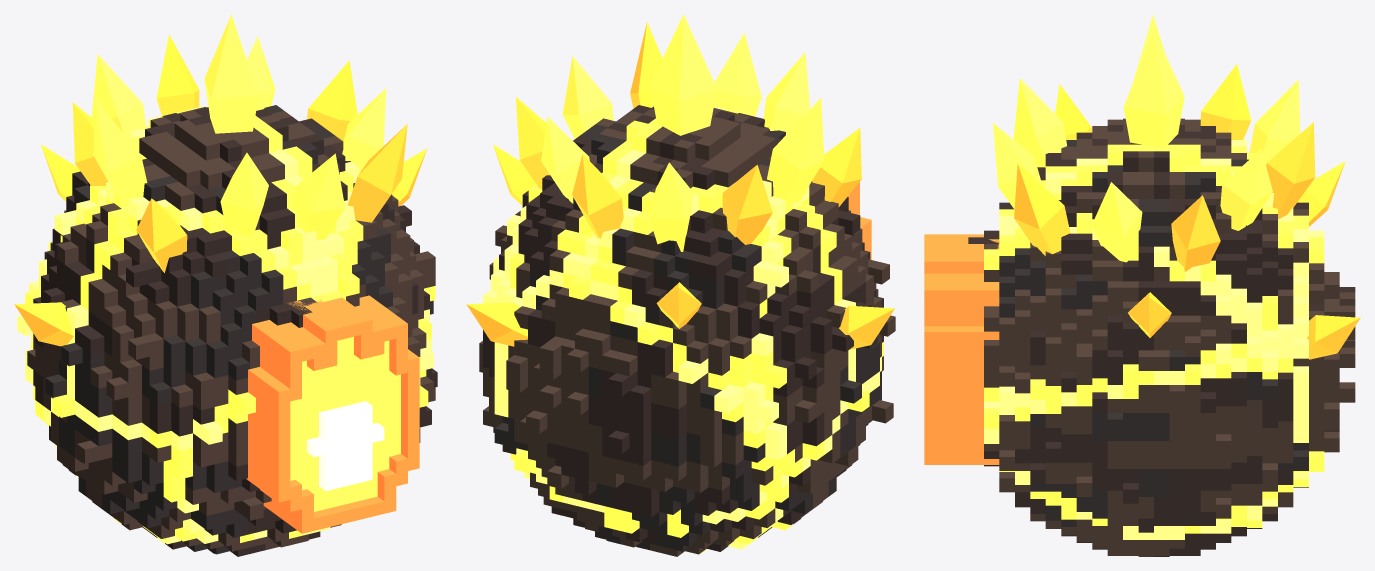
Rendered from MagmawBossEgg.fbx.
3 renders of one model, left to right at view 1: azimuth 30°, elevation 25°; view 2: azimuth 150°, elevation 25°; view 3: azimuth 270°, elevation 25°, orthographic. The views are drawn at different scales.
Visible parts, largest first — view 1: Magmaw_Body__Magmaw_Rock, Magmaw_Body__Magmaw_Charcoal, Magmaw_Emblem__Magmaw_FlameOutline, Magmaw_Body__Magmaw_RockDark, Magmaw_Crystals__Magmaw_CrystalYellow, Magmaw_Crystals__Magmaw_CrystalOrange, Magmaw_Body__Magmaw_Magma, Magmaw_Body__Magmaw_MagmaHot, Magmaw_Emblem__Magmaw_Flame, Magmaw_Emblem__Magmaw_FlameCore; view 2: Magmaw_Body__Magmaw_Rock, Magmaw_Body__Magmaw_RockDark, Magmaw_Crystals__Magmaw_CrystalYellow, Magmaw_Body__Magmaw_Charcoal, Magmaw_Body__Magmaw_Magma, Magmaw_Crystals__Magmaw_CrystalOrange, Magmaw_Body__Magmaw_MagmaHot, Magmaw_Emblem__Magmaw_FlameOutline; view 3: Magmaw_Body__Magmaw_Rock, Magmaw_Body__Magmaw_RockDark, Magmaw_Crystals__Magmaw_CrystalYellow, Magmaw_Crystals__Magmaw_CrystalOrange, Magmaw_Emblem__Magmaw_FlameOutline, Magmaw_Body__Magmaw_MagmaHot, Magmaw_Body__Magmaw_Magma, Magmaw_Body__Magmaw_Charcoal.
Part boxes in pixels (x1=…): Magmaw_Body__Magmaw_Rock: x1=27, y1=107, x2=435, y2=551; Magmaw_Body__Magmaw_Charcoal: x1=45, y1=105, x2=433, y2=554; Magmaw_Emblem__Magmaw_FlameOutline: x1=246, y1=295, x2=419, y2=533; Magmaw_Body__Magmaw_RockDark: x1=33, y1=107, x2=437, y2=556; Magmaw_Crystals__Magmaw_CrystalYellow: x1=91, y1=14, x2=386, y2=240; Magmaw_Crystals__Magmaw_CrystalOrange: x1=14, y1=34, x2=427, y2=346; Magmaw_Body__Magmaw_Magma: x1=25, y1=103, x2=435, y2=543; Magmaw_Body__Magmaw_MagmaHot: x1=17, y1=106, x2=433, y2=544; Magmaw_Emblem__Magmaw_Flame: x1=290, y1=337, x2=400, y2=511; Magmaw_Emblem__Magmaw_FlameCore: x1=307, y1=401, x2=384, y2=490; Magmaw_Body__Magmaw_Rock: x1=479, y1=108, x2=895, y2=556; Magmaw_Body__Magmaw_RockDark: x1=483, y1=105, x2=883, y2=551; Magmaw_Crystals__Magmaw_CrystalYellow: x1=541, y1=14, x2=824, y2=251; Magmaw_Body__Magmaw_Charcoal: x1=483, y1=124, x2=883, y2=551; Magmaw_Body__Magmaw_Magma: x1=510, y1=109, x2=883, y2=544; Magmaw_Crystals__Magmaw_CrystalOrange: x1=466, y1=22, x2=894, y2=349; Magmaw_Body__Magmaw_MagmaHot: x1=483, y1=107, x2=881, y2=553; Magmaw_Emblem__Magmaw_FlameOutline: x1=848, y1=182, x2=871, y2=259; Magmaw_Body__Magmaw_Rock: x1=984, y1=118, x2=1355, y2=556; Magmaw_Body__Magmaw_RockDark: x1=968, y1=125, x2=1355, y2=556; Magmaw_Crystals__Magmaw_CrystalYellow: x1=993, y1=15, x2=1300, y2=262; Magmaw_Crystals__Magmaw_CrystalOrange: x1=1014, y1=64, x2=1360, y2=359; Magmaw_Emblem__Magmaw_FlameOutline: x1=924, y1=234, x2=999, y2=464; Magmaw_Body__Magmaw_MagmaHot: x1=984, y1=140, x2=1324, y2=539; Magmaw_Body__Magmaw_Magma: x1=984, y1=144, x2=1324, y2=533; Magmaw_Body__Magmaw_Charcoal: x1=999, y1=140, x2=1308, y2=549.
Size of the model in its own units: 208 by 250 by 197.
